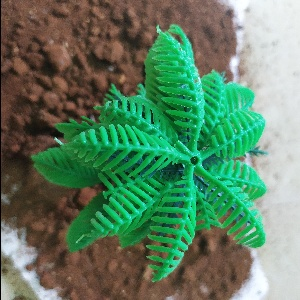plant: (48, 34, 272, 276)
